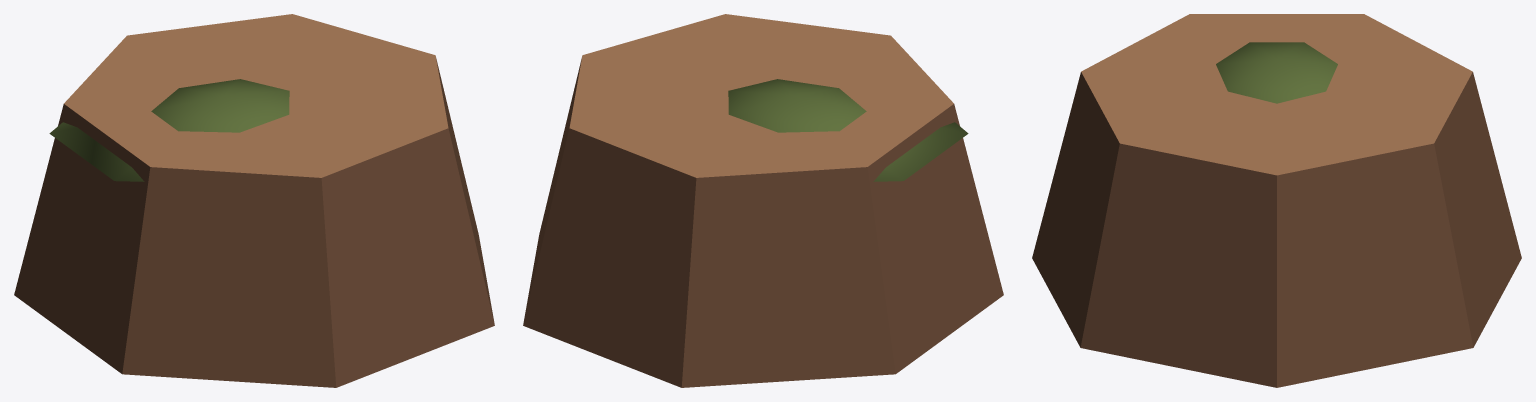
Rendered from env-mossstump-0.glb.
The picture shows the model from 3 angles, left to right: view 1: azimuth 30°, elevation 25°; view 2: azimuth 150°, elevation 25°; view 3: azimuth 270°, elevation 25°; orthographic projection.
Parts seen in each view (by area): view 1: env-mossStump-0; view 2: env-mossStump-0; view 3: env-mossStump-0.
Part boxes in pixels (x1,y1,x2,y2): env-mossStump-0: (14, 14, 494, 387); env-mossStump-0: (523, 14, 1003, 387); env-mossStump-0: (1032, 14, 1521, 387).
Bounding box in the file's own units: 0.9505 × 0.445 × 0.9749.
